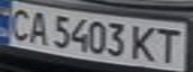0: (87, 19, 109, 55)
3: (106, 20, 130, 60)
4: (66, 16, 90, 52)
5: (48, 12, 72, 51)
A: (24, 8, 51, 45)
C: (3, 4, 36, 42)
K: (127, 22, 160, 63)
T: (151, 25, 187, 65)
